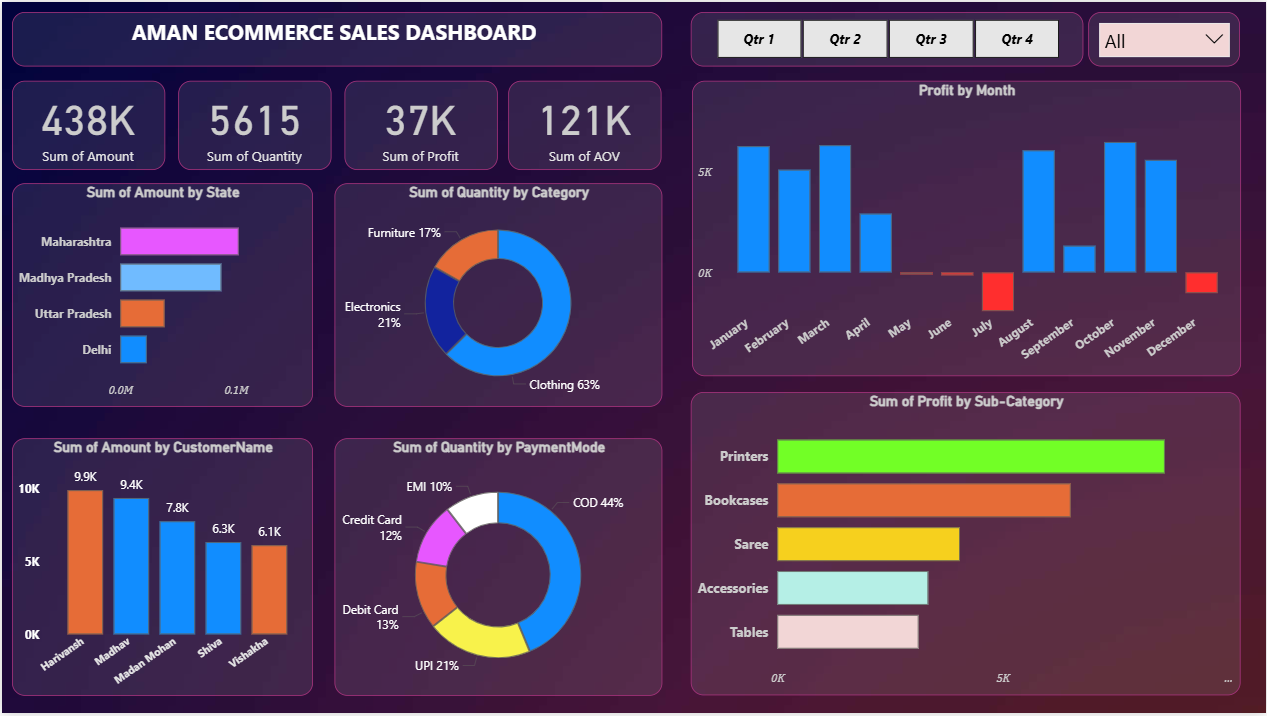

Layout of this report page (visuals, bound fields, positions):
{"tool":"powerbi","page":{"name":"Page 1","canvas":[1280,720],"ordinal":0},"visuals":[{"type":"textbox","box":[9.6,9.6,658.7,54.9],"z":0},{"type":"columnChart","title":" Profit by Month","fields":{"Category":["Orders.Order Date.Variation.Date Hierarchy.Month"],"Y":["Details.Profit"]},"box":[698.5,79.6,555.7,299.1],"z":1000},{"type":"barChart","fields":{"Category":["Details.Sub-Category"],"Y":["Details.Profit"]},"box":[697.1,395.2,557.1,307.4],"z":2000},{"type":"donutChart","fields":{"Y":["Details.Quantity"],"Category":["Details.Category"]},"box":[336.2,183.9,332.1,226.4],"z":3000},{"type":"donutChart","fields":{"Y":["Details.Quantity"],"Category":["Details.PaymentMode"]},"box":[336.2,441.9,332.1,260.7],"z":4000},{"type":"card","fields":{"Values":["Details.Amount"]},"box":[9.6,79.6,155.1,90.6],"z":5000},{"type":"card","fields":{"Values":["Details.Quantity"]},"box":[178.4,79.6,155.1,90.6],"z":6000},{"type":"card","fields":{"Values":["Details.Profit"]},"box":[347.2,79.6,155.1,90.6],"z":7000},{"type":"card","fields":{"Values":["Details.AOV"]},"box":[513.2,79.6,155.1,90.6],"z":8000},{"type":"barChart","fields":{"Category":["Orders.State"],"Y":["Details.Amount"]},"box":[9.6,183.9,304.6,226.4],"z":9000},{"type":"columnChart","fields":{"Y":["Details.Amount"],"Category":["Orders.CustomerName"]},"box":[10,442,305,261],"z":10000},{"type":"slicer","fields":{"Values":["Orders.Order Date.Variation.Date Hierarchy.Quarter"]},"box":[697.1,9.6,397.9,54.9],"z":11000},{"type":"slicer","fields":{"Values":["Orders.State"]},"box":[1100.5,9.6,153.7,54.9],"z":11001}]}

Visuals, with their boxes in screenshot pixels (x1, y1, x2, y2), scaled from the page's 1280x720 canvas onto the 1267x716 screenshot:
textbox: 10:10:662:64
" Profit by Month" columnChart: 691:79:1241:377
barChart - Details.Sub-Category x Details.Profit: 690:393:1241:699
donutChart - Details.Quantity x Details.Category: 333:183:662:408
donutChart - Details.Quantity x Details.PaymentMode: 333:439:662:699
card - Details.Amount: 10:79:163:169
card - Details.Quantity: 177:79:330:169
card - Details.Profit: 344:79:497:169
card - Details.AOV: 508:79:662:169
barChart - Orders.State x Details.Amount: 10:183:311:408
columnChart - Details.Amount x Orders.CustomerName: 10:440:312:699
slicer - Orders.Order Date.Variation.Date Hierarchy.Quarter: 690:10:1084:64
slicer - Orders.State: 1089:10:1241:64
